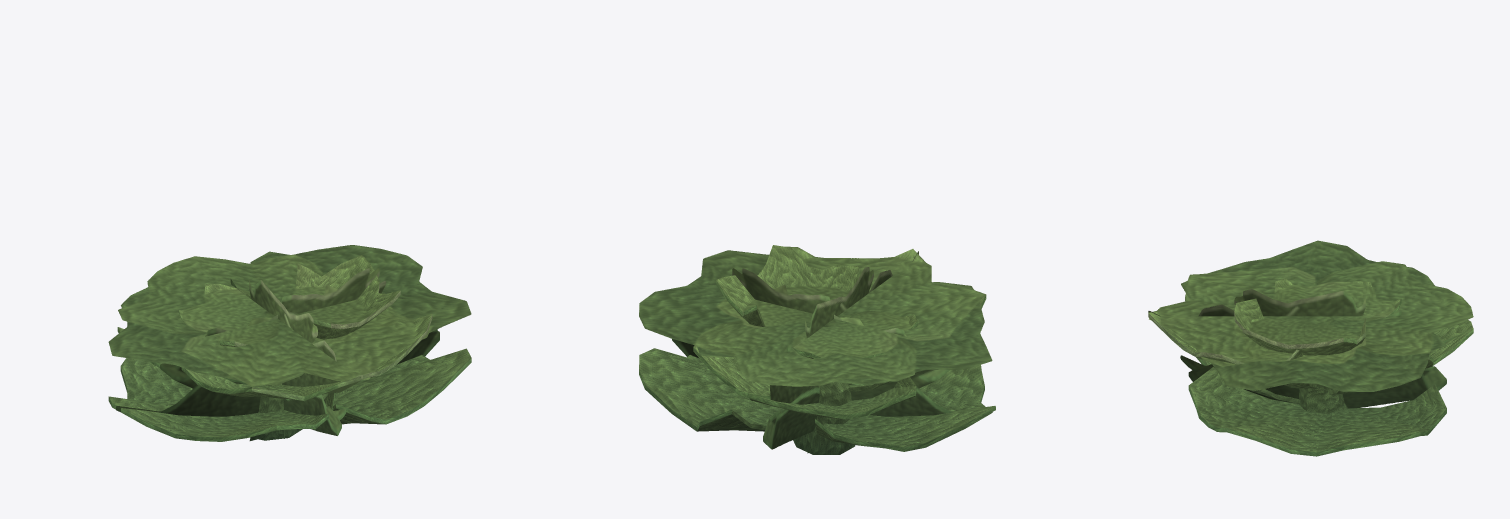
File: Coral-11-Alface-Marinha.glb
3 views of the same model, side by side, from view 1: azimuth 30°, elevation 25°; view 2: azimuth 150°, elevation 25°; view 3: azimuth 270°, elevation 25° (orthographic). The views are drawn at different scales.
Parts seen in each view (by area): view 1: Coral-11-Alface-Marinha impostor, Colonia; view 2: Coral-11-Alface-Marinha impostor, Colonia; view 3: Coral-11-Alface-Marinha impostor, Colonia.
Boxes of the visible parts, <box> form: Coral-11-Alface-Marinha impostor: <box>108,245,471,440</box>; Colonia: <box>108,255,471,441</box>; Coral-11-Alface-Marinha impostor: <box>639,250,995,453</box>; Colonia: <box>639,245,992,454</box>; Coral-11-Alface-Marinha impostor: <box>1148,240,1473,408</box>; Colonia: <box>1148,278,1473,456</box>.
Size of what is drawn, in the model's own units: 1.46 by 1.46 by 1.46.
Materials: 2 (2 with a texture image).
